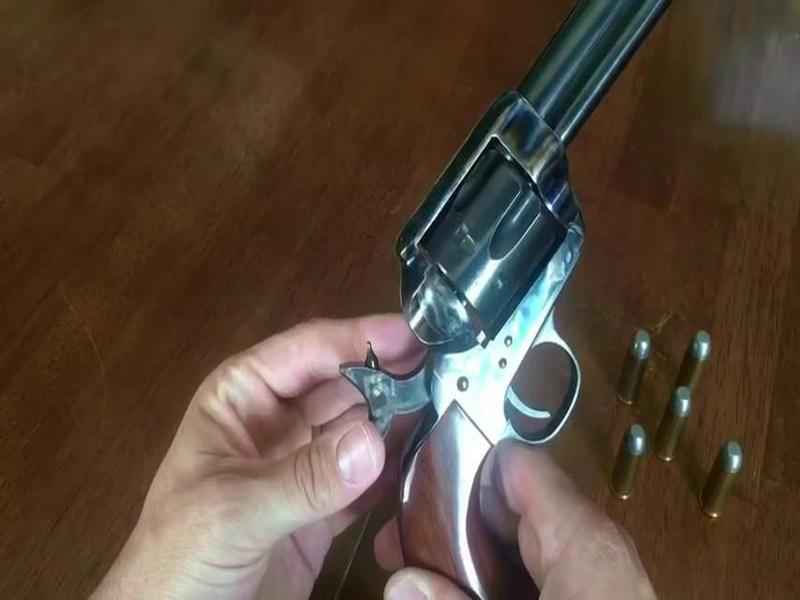Revolver: (332, 8, 603, 481)
